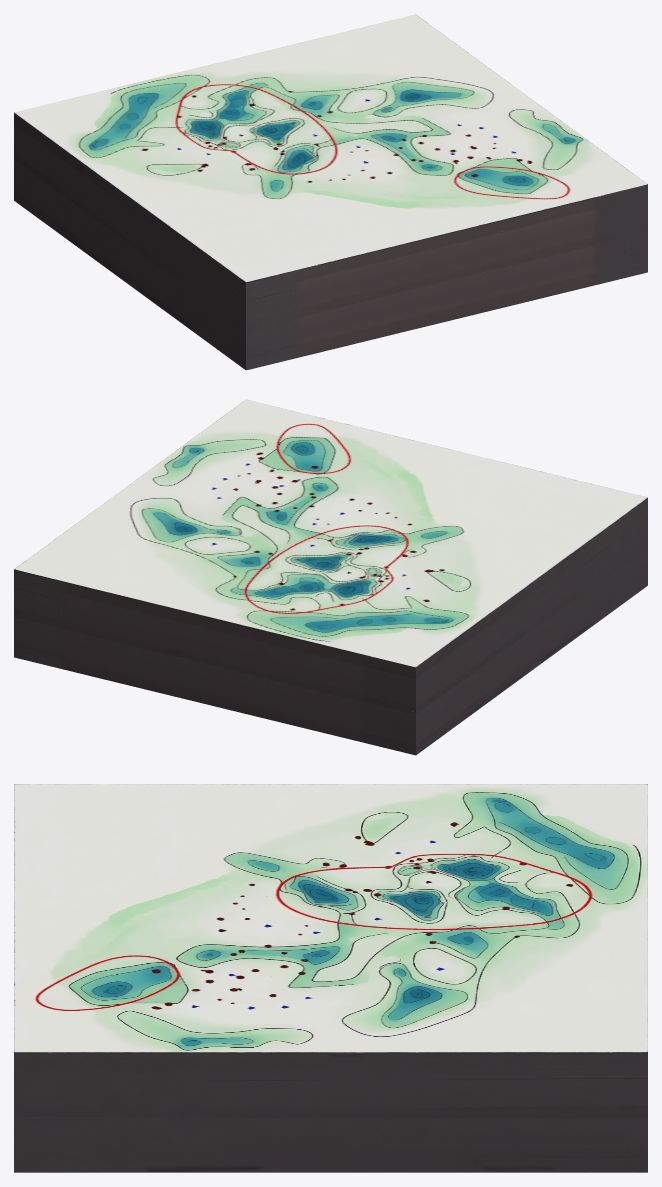
3 views of the same model, one above another, from view 1: azimuth 30°, elevation 25°; view 2: azimuth 150°, elevation 25°; view 3: azimuth 270°, elevation 25° (orthographic). The views are drawn at different scales.
Visible parts, largest first — view 1: Strategy_reconstructed_block; view 2: Strategy_reconstructed_block; view 3: Strategy_reconstructed_block.
Boxes of the visible parts, <box> form: Strategy_reconstructed_block: <box>14,14,647,370</box>; Strategy_reconstructed_block: <box>14,399,647,755</box>; Strategy_reconstructed_block: <box>14,784,647,1172</box>.
Bounding box in the file's own units: 1.9 × 0.3977 × 1.9.
Materials: 1 (1 with a texture image).
